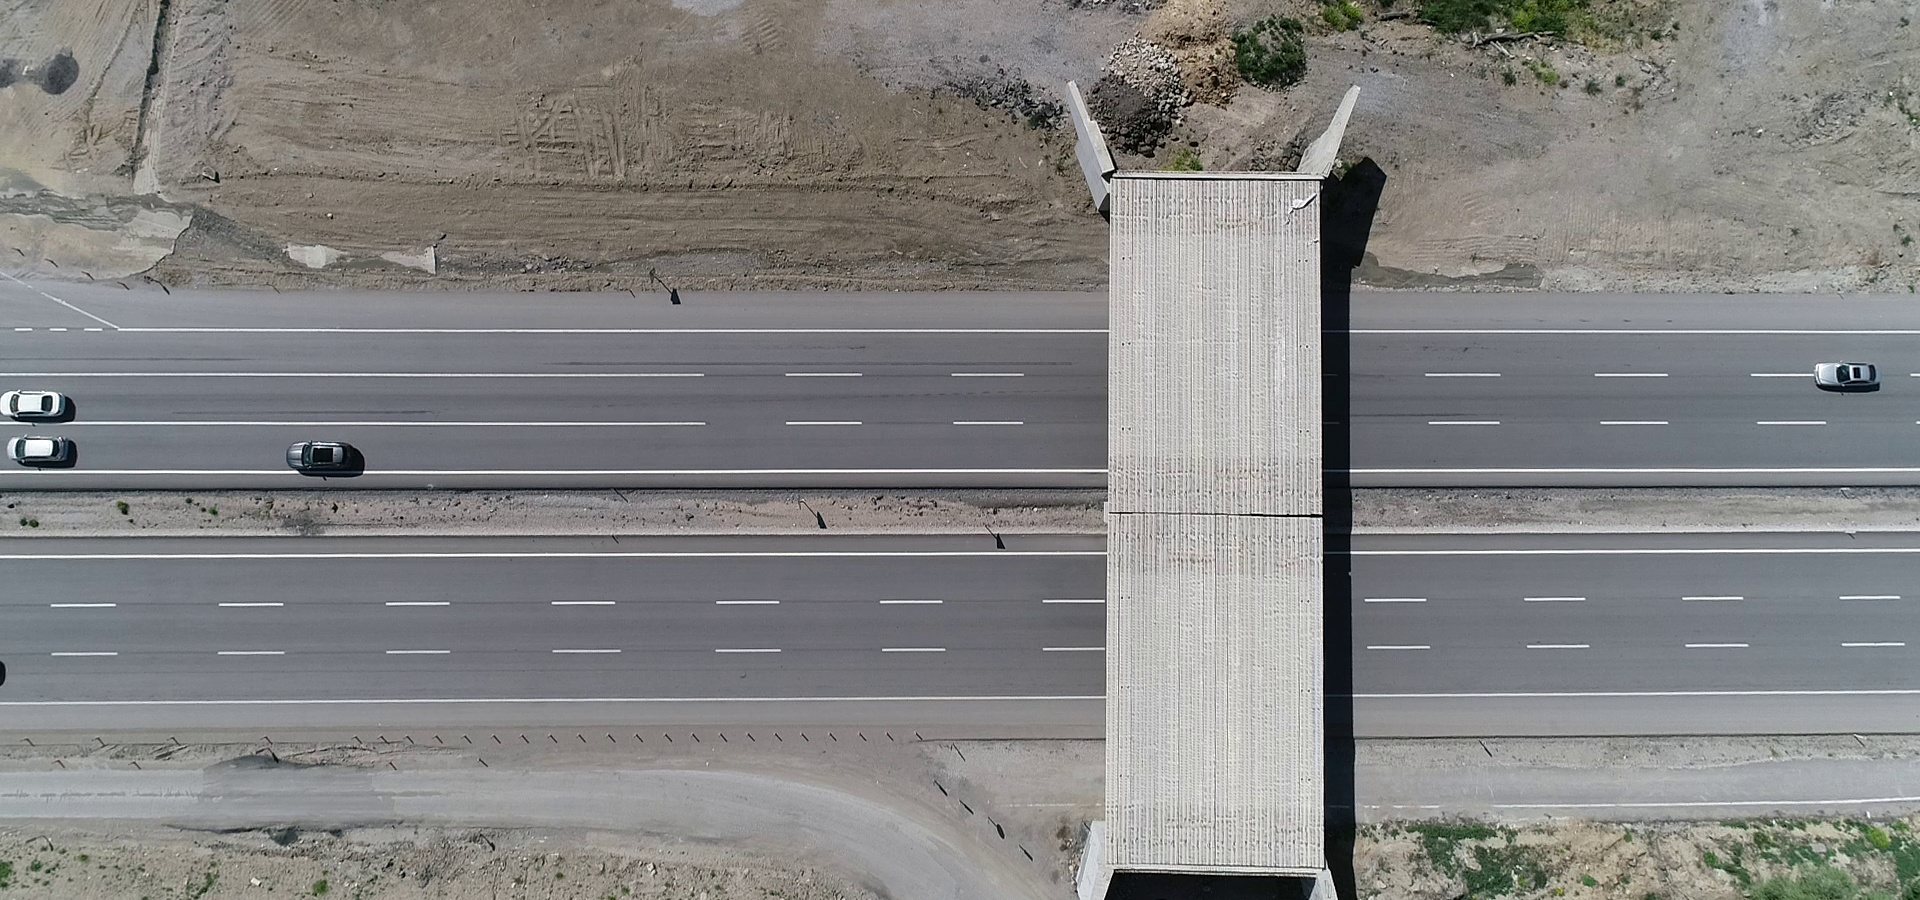araba: (278, 438, 371, 479), (1, 429, 94, 468), (1, 383, 80, 429), (1810, 362, 1883, 389)
